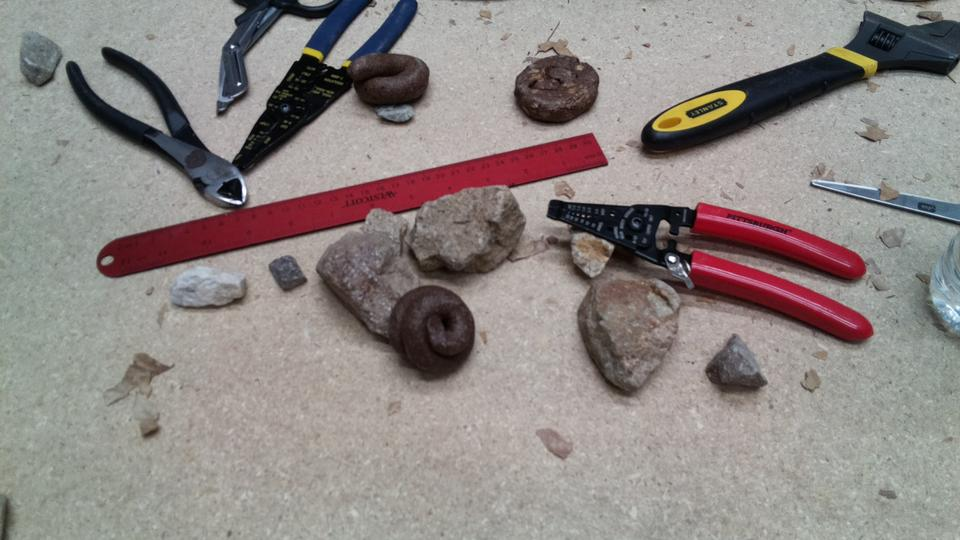poop: (383, 282, 482, 378), (510, 53, 602, 126), (344, 48, 435, 111)
